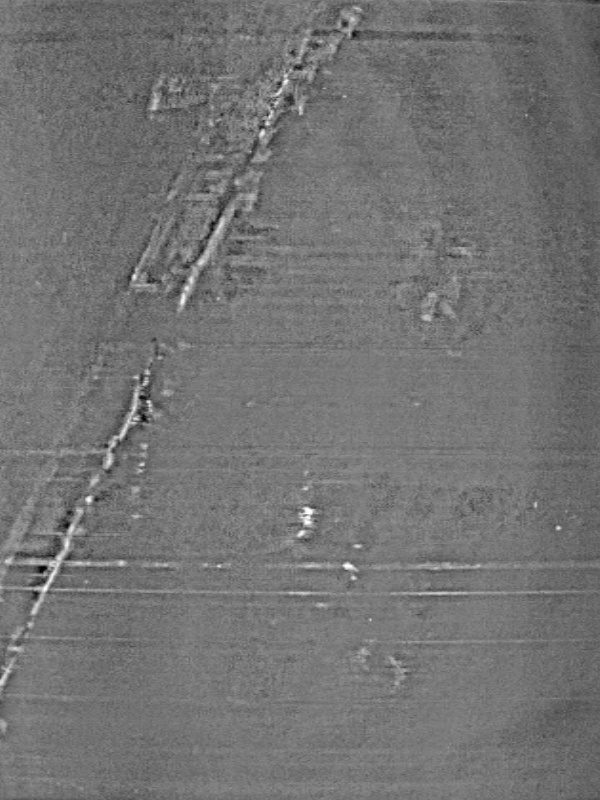splice_vulcanized: (1, 1, 363, 706)
